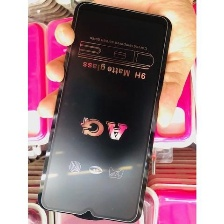phone: (35, 0, 176, 223)
